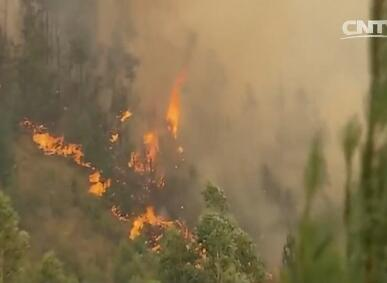fire: (110, 65, 186, 187), (27, 121, 109, 195), (126, 201, 211, 268)
